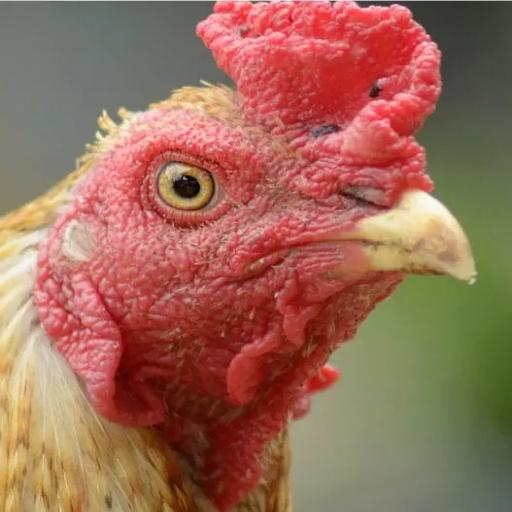healthy: (96, 113, 290, 258)
